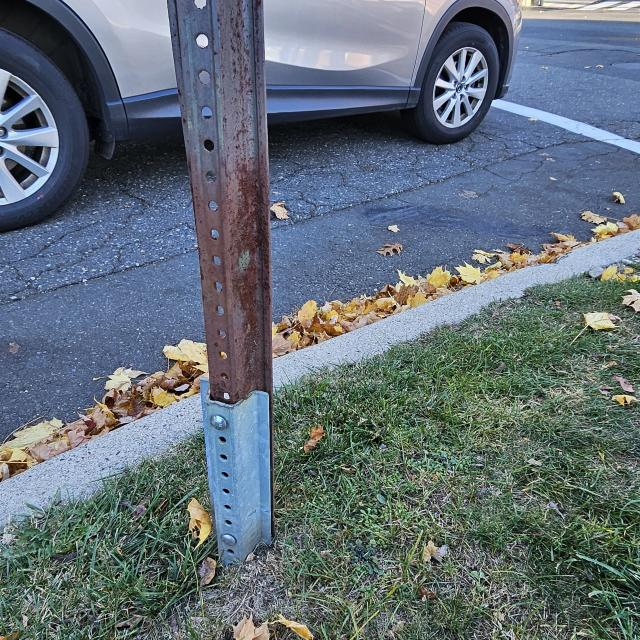Uniform Corrosion: (192, 1, 272, 401)
